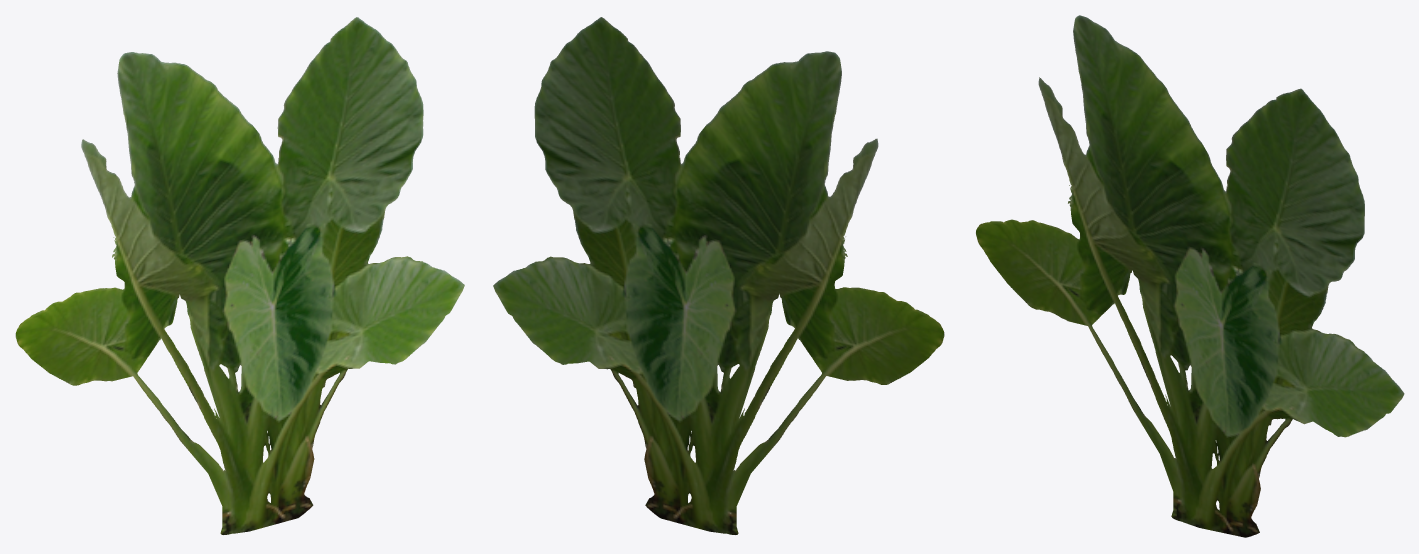
Rendered from taro plant.fbx.
3 views of the same model, side by side, from view 1: azimuth 30°, elevation 25°; view 2: azimuth 150°, elevation 25°; view 3: azimuth 330°, elevation 25° (orthographic). The views are drawn at different scales.
Visible parts, largest first — view 1: Component_1_1; view 2: Component_1_1; view 3: Component_1_1.
Part boxes in pixels (x1,y1,x2,y2): Component_1_1: (15,17,464,534); Component_1_1: (493,17,944,534); Component_1_1: (976,15,1404,537).
Size of the model in its own units: 1337 by 1443 by 4.54.
